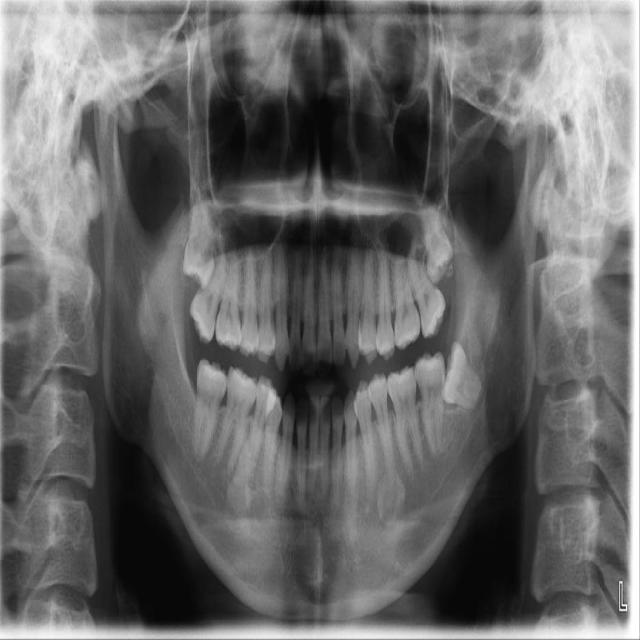impacted tooth: (182, 191, 216, 287), (416, 196, 453, 282), (442, 343, 480, 409)
